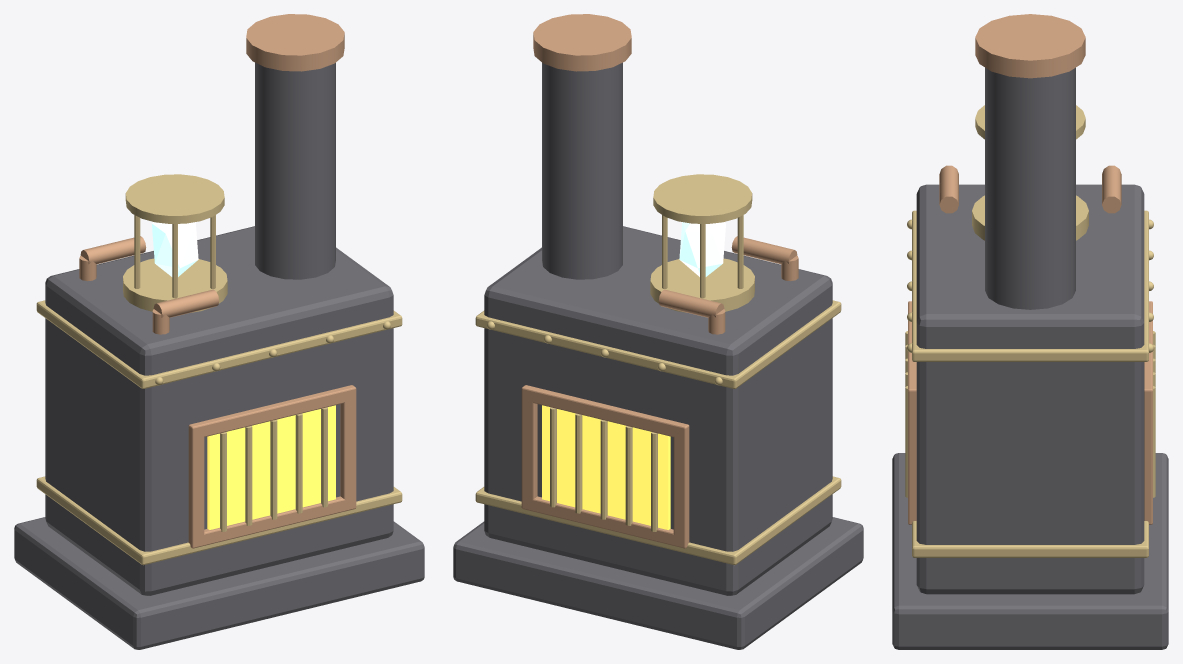
Rendered from Fornalha.fbx.
3 renders of one model, left to right at view 1: azimuth 30°, elevation 25°; view 2: azimuth 150°, elevation 25°; view 3: azimuth 270°, elevation 25°, orthographic. The views are drawn at different scales.
Parts seen in each view (by area): view 1: Fornalha; view 2: Fornalha; view 3: Fornalha.
Part boxes in pixels (left/top/right/bottom): Fornalha: left=14, top=14, right=424, bottom=649; Fornalha: left=453, top=14, right=863, bottom=649; Fornalha: left=892, top=14, right=1168, bottom=649.
Size of the model in its own units: 2.3 by 3.92 by 1.7.
